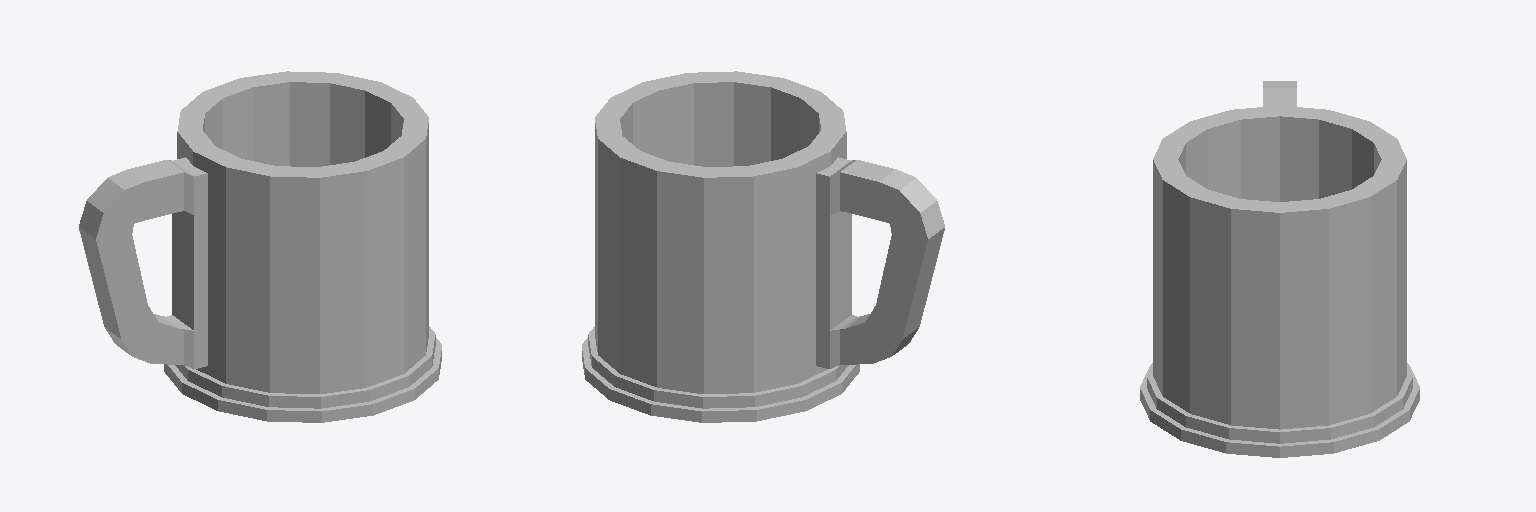
The model's file is Cup.obj.
3 renders of one model, left to right at view 1: azimuth 30°, elevation 25°; view 2: azimuth 150°, elevation 25°; view 3: azimuth 270°, elevation 25°, orthographic.
Visible parts, largest first — view 1: Metal_Cup; view 2: Metal_Cup; view 3: Metal_Cup.
Part boxes in pixels (x1,y1,x2,y2): Metal_Cup: (79, 71, 441, 422); Metal_Cup: (582, 71, 944, 422); Metal_Cup: (1140, 81, 1419, 457).
Bounding box in the file's own units: 8.85 × 6 × 6.37.